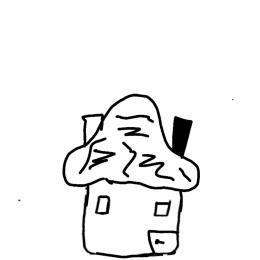bottom_placed_house: (0, 0, 260, 260)
chimney: (170, 107, 205, 164), (75, 107, 107, 146)
door: (144, 224, 185, 260)
open_window: (92, 193, 117, 221), (150, 197, 174, 223)
roof: (49, 85, 215, 191)
wall: (76, 174, 189, 260)
